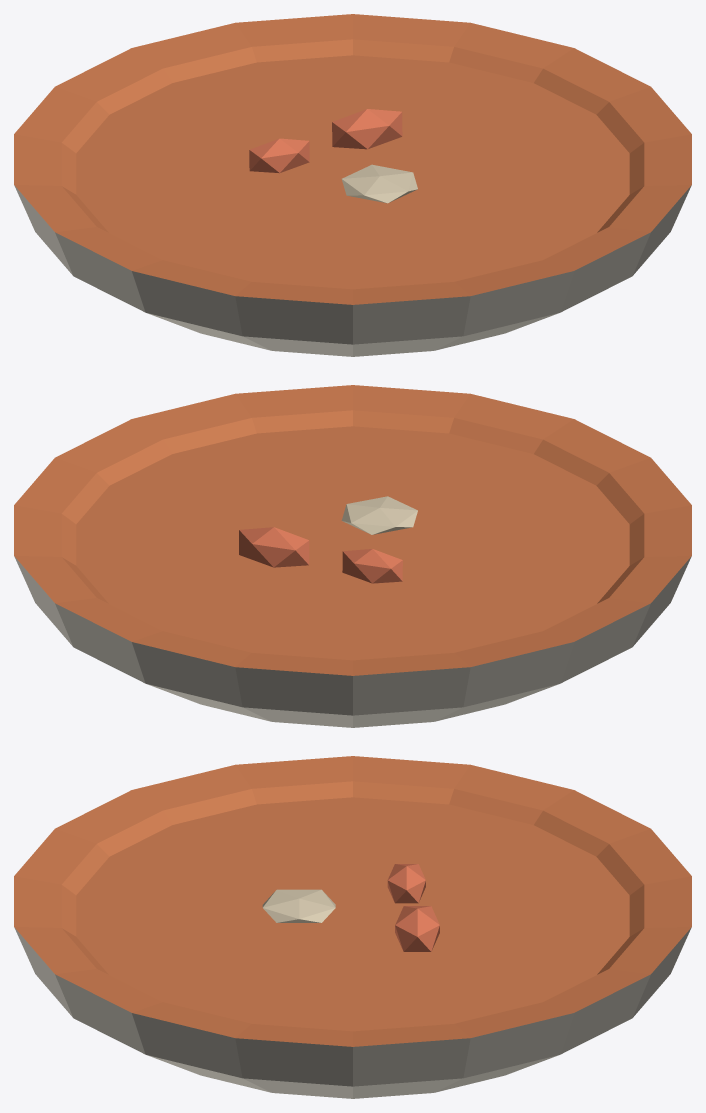
File: Seafood_Bisque.glb
The picture shows the model from 3 angles, top to bottom: view 1: azimuth 30°, elevation 25°; view 2: azimuth 150°, elevation 25°; view 3: azimuth 270°, elevation 25°; orthographic projection.
Visible parts, largest first — view 1: _I_SeafoodBisque; view 2: _I_SeafoodBisque; view 3: _I_SeafoodBisque.
Boxes of the visible parts, x1,y1,x2,y2 form: _I_SeafoodBisque: (14,14,691,356); _I_SeafoodBisque: (14,385,691,727); _I_SeafoodBisque: (14,756,691,1098).
Bounding box in the file's own units: 0.64 × 0.136 × 0.6303.
